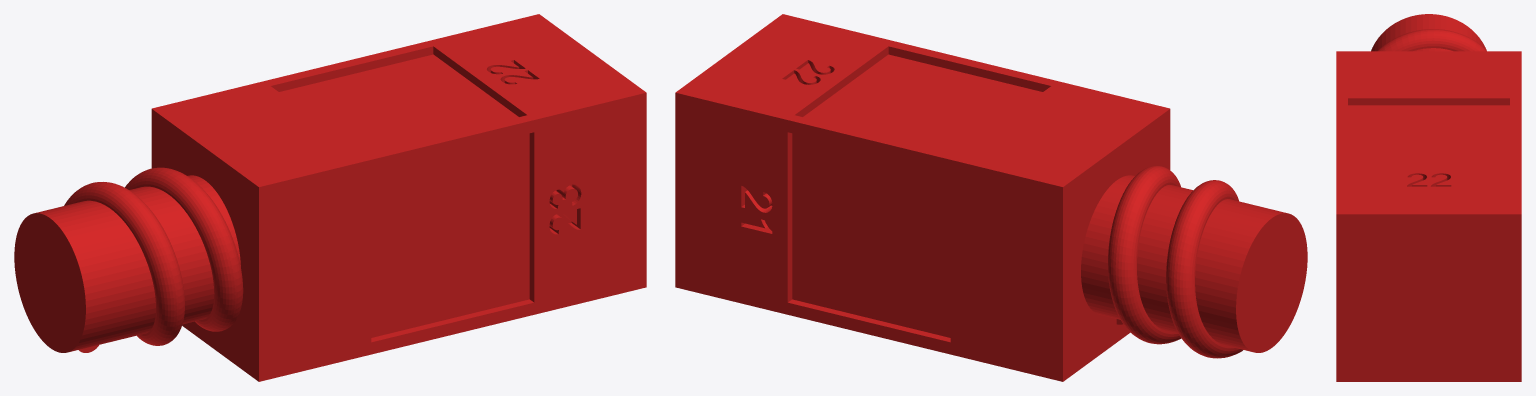
File: square_table_leg4.obj
3 renders of one model, left to right at view 1: azimuth 30°, elevation 25°; view 2: azimuth 150°, elevation 25°; view 3: azimuth 270°, elevation 25°, orthographic. The views are drawn at different scales.
Size of the model in its own units: 0.0875 by 0.03 by 0.03.
Materials: 1 (1 with a texture image).
